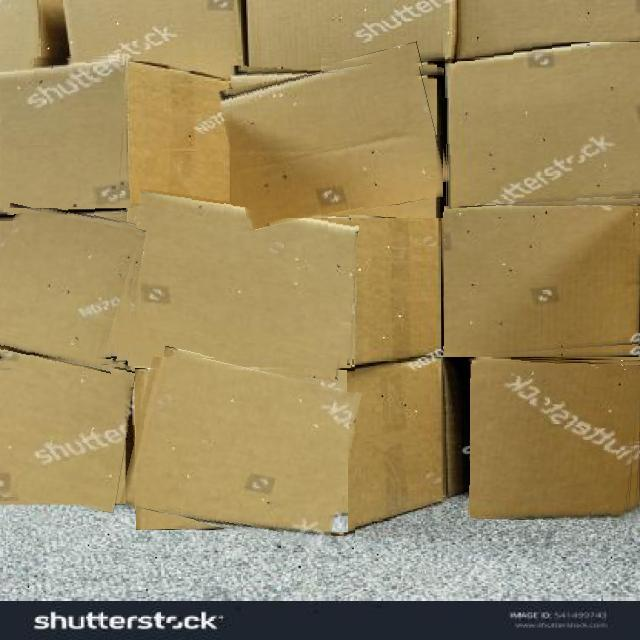BoxFace: (127, 357, 355, 541), (123, 196, 355, 373), (225, 53, 444, 218), (445, 42, 640, 208), (444, 206, 640, 357), (470, 357, 640, 520), (0, 208, 138, 369), (0, 352, 130, 509), (1, 54, 128, 214)
